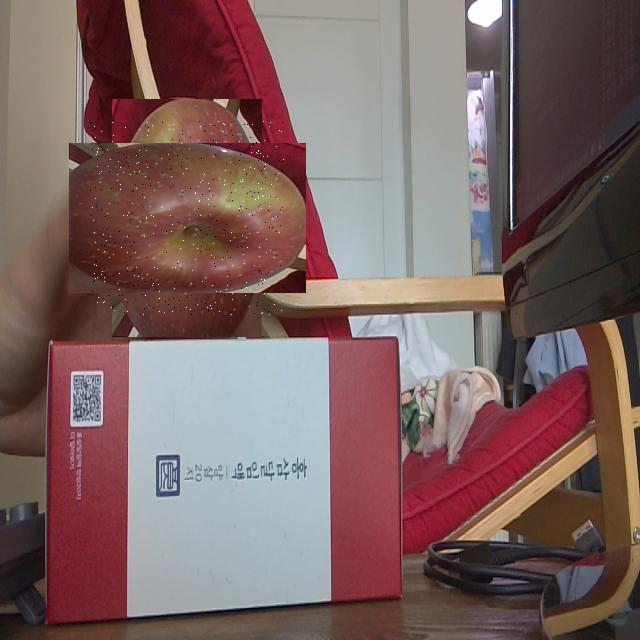apple: (90, 121, 284, 315)
